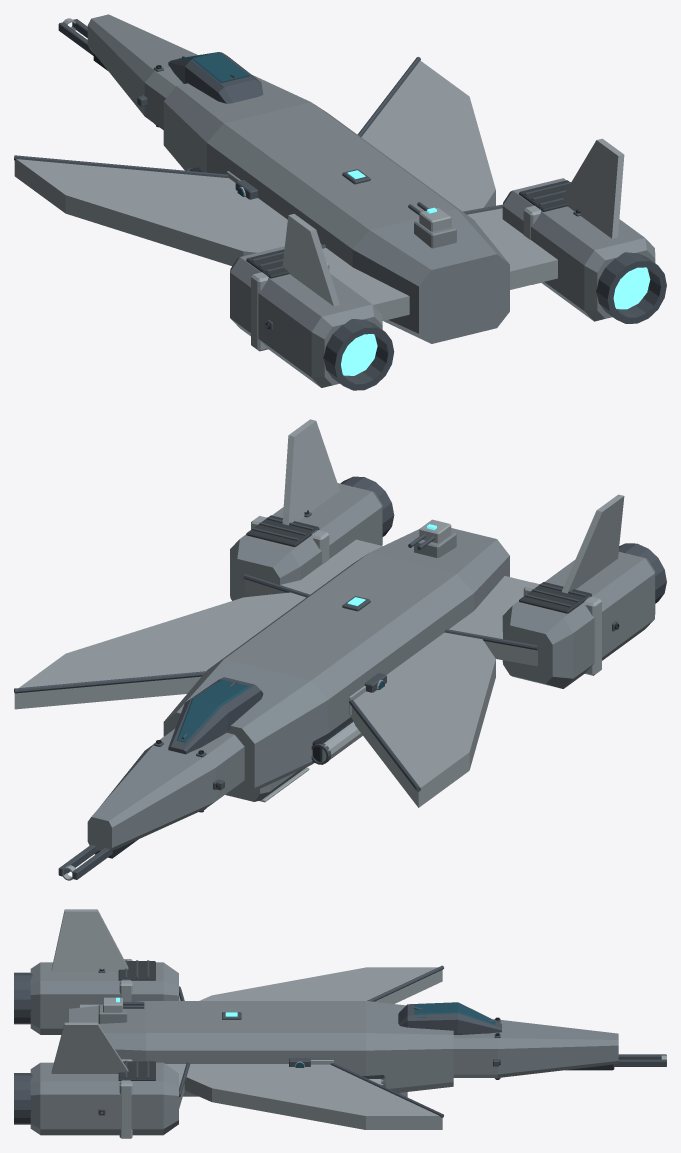
The model's file is interceptor_t4.glb.
The picture shows the model from 3 angles, top to bottom: view 1: azimuth 30°, elevation 25°; view 2: azimuth 150°, elevation 25°; view 3: azimuth 270°, elevation 25°; orthographic projection. The views are drawn at different scales.
Visible parts, largest first — view 1: FleetHull, mesh_pd_yaw_1; view 2: FleetHull; view 3: FleetHull.
Boxes of the visible parts, left/top/right/bottom form: FleetHull: left=14, top=14, right=666, bottom=390; mesh_pd_yaw_1: left=419, top=208, right=451, bottom=231; FleetHull: left=14, top=419, right=666, bottom=880; FleetHull: left=14, top=909, right=666, bottom=1138.
Bounding box in the file's own units: 16.12 × 6.71 × 29.71.
